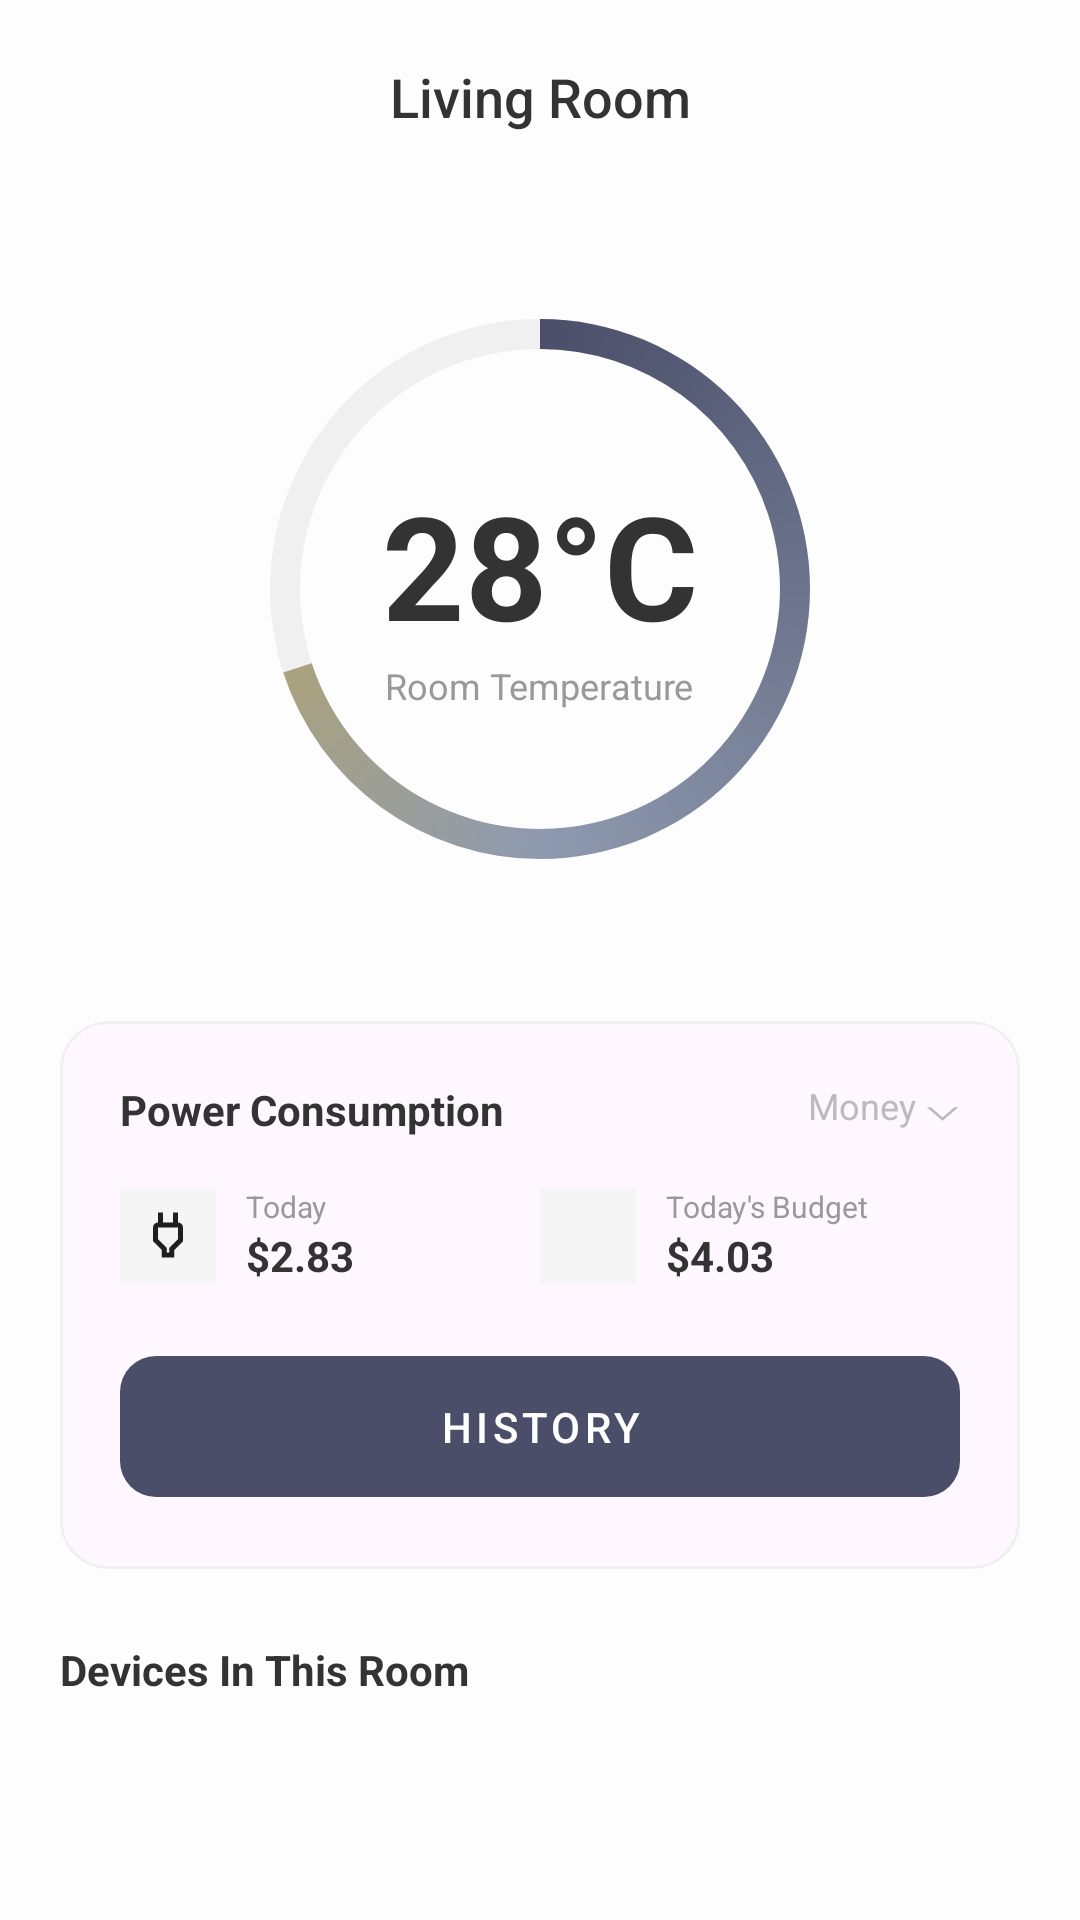

Icons on this 1080×1920 Android screen, each with the point to tap as [x,y]:
plug: [168,1235]
